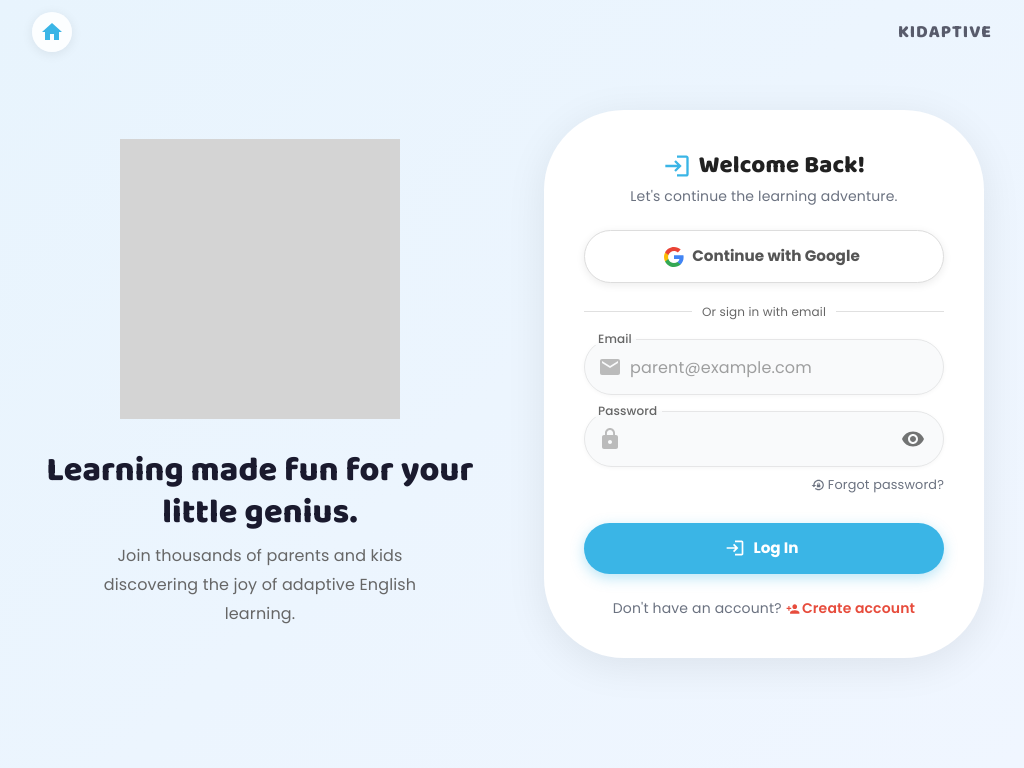
ParentLoginPage › clears error message when user starts typing again
This screenshot has width=1024, height=768.
In the field labelled "Email": (787, 367) [630,339,944,395], type "parent@test.com"
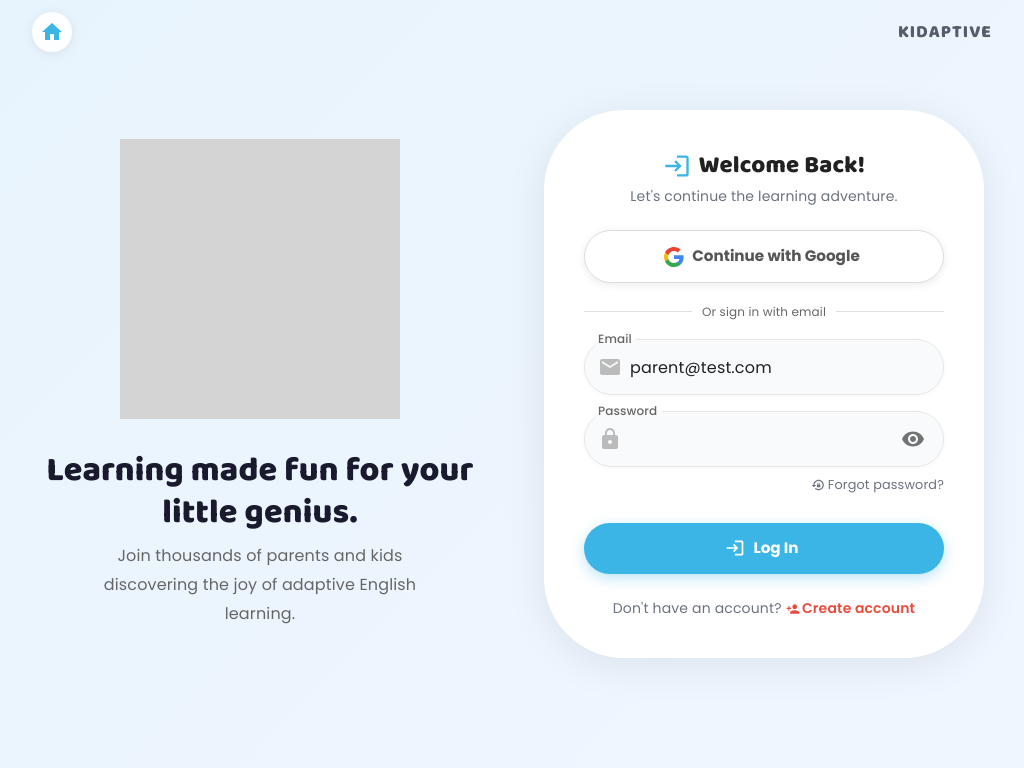
In the password field labelled "Password": (759, 439) [630,411,888,467], type "wrong"
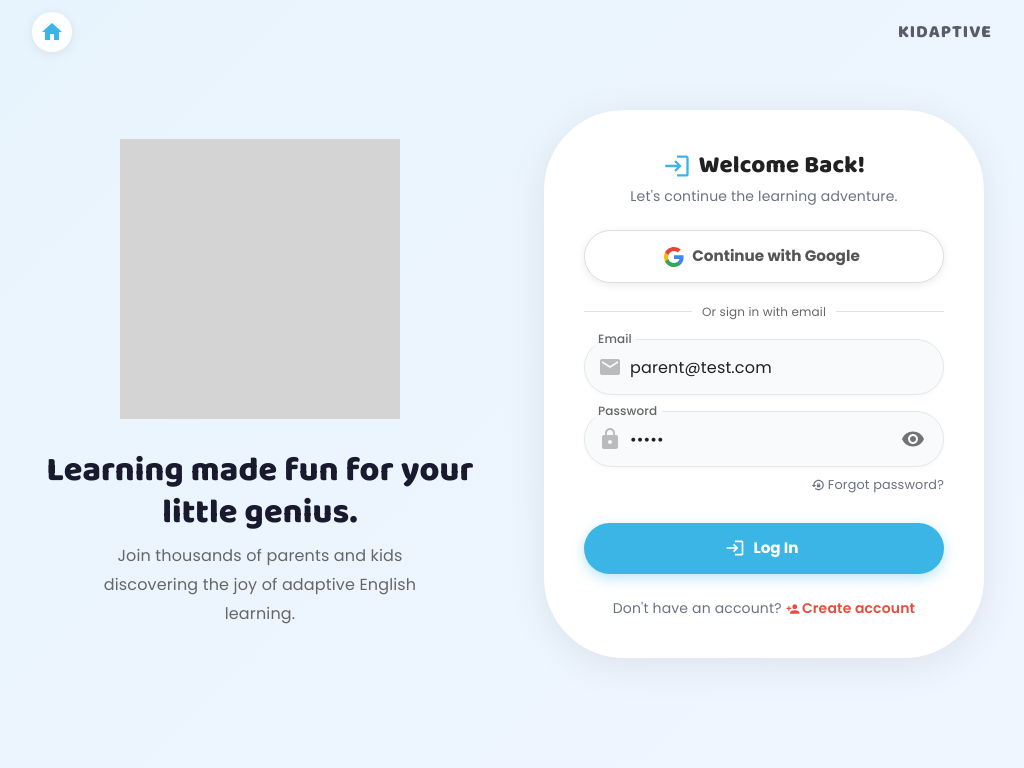
Click the button "Log In": (764, 548) [584,523,944,574]
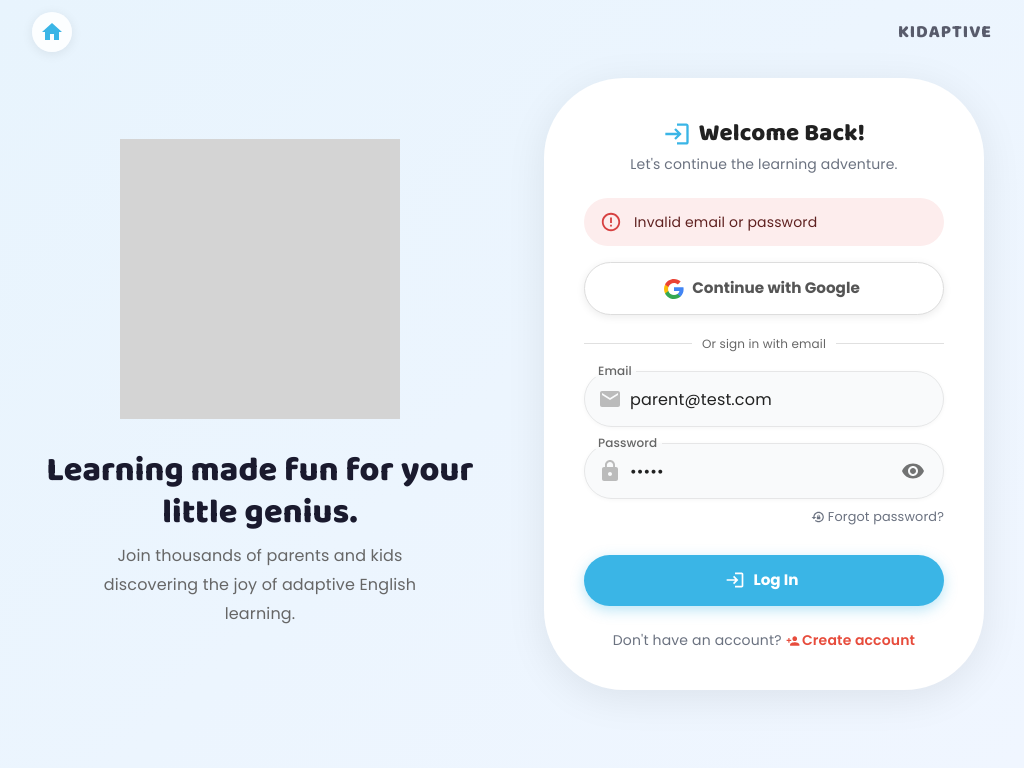
Now the text "Invalid email or password" is shown, box [634,212,817,232]
Start typing again — error should disappear
Replace the text in the field labelled "Email" with "new@test.com": (787, 399) [630,371,944,427]
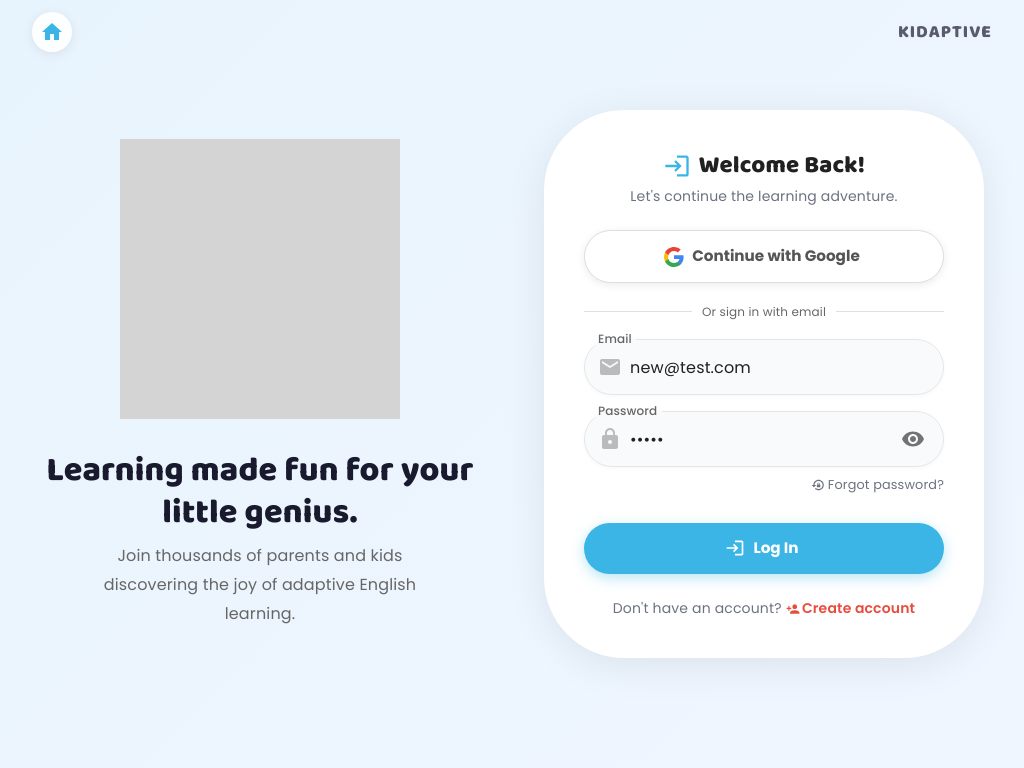
Now the text "Invalid email or password" is gone
